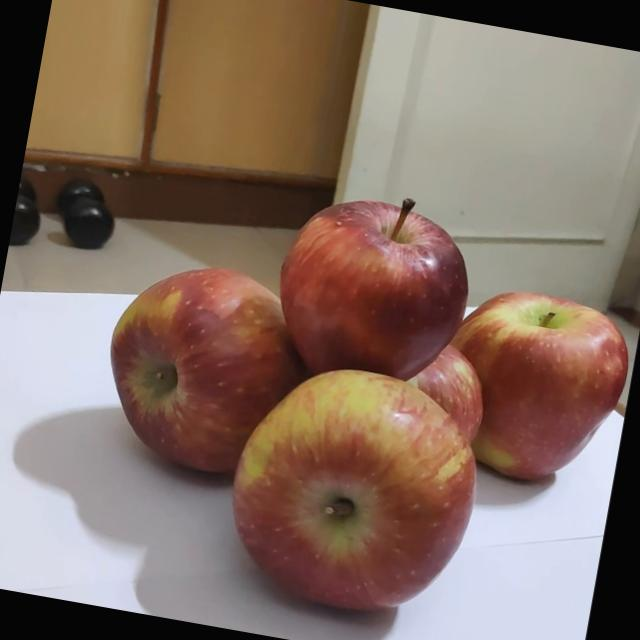apple: (211, 339, 510, 640), (87, 247, 319, 493), (262, 170, 492, 412), (425, 262, 640, 495)
